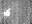person: (4, 9, 11, 16)
